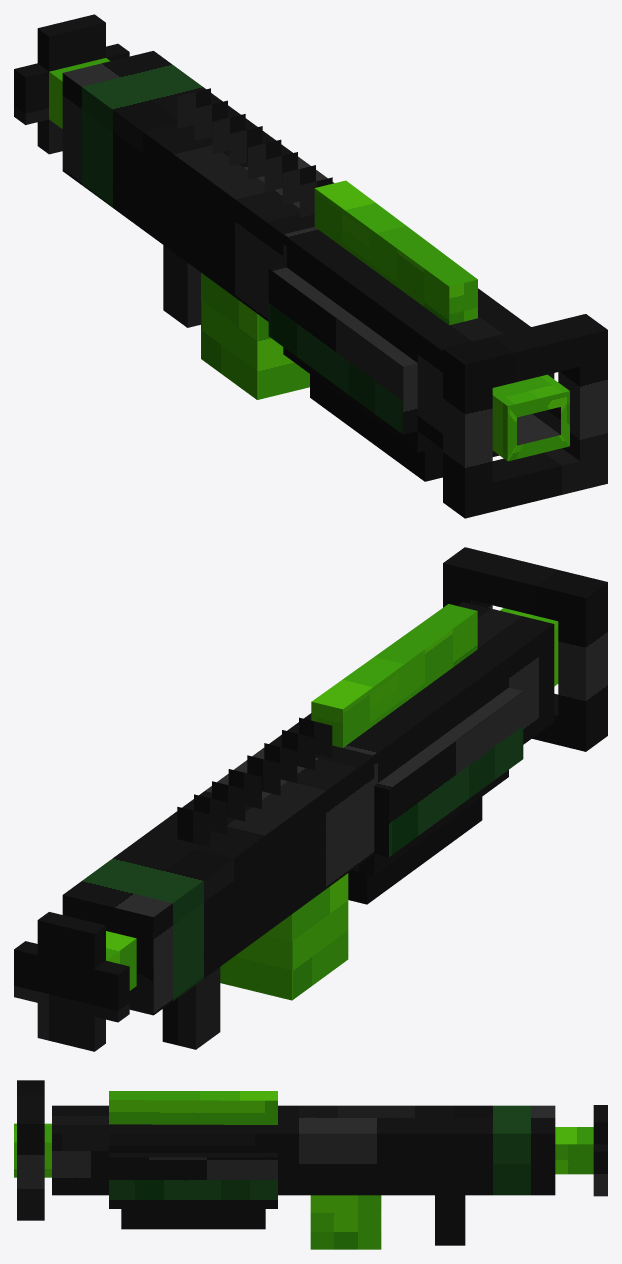
File: Gun-07.fbx
3 renders of one model, top to bottom at view 1: azimuth 30°, elevation 25°; view 2: azimuth 150°, elevation 25°; view 3: azimuth 270°, elevation 25°, orthographic. The views are drawn at different scales.
Parts seen in each view (by area): view 1: Gun-07; view 2: Gun-07; view 3: Gun-07.
Part boxes in pixels (x1,y1,x2,y2): Gun-07: [14, 14, 607, 518]; Gun-07: [14, 547, 607, 1051]; Gun-07: [14, 1080, 607, 1249].
Size of the model in its own units: 15.65 by 24.14 by 89.62.
Materials: 2 (2 with a texture image).
